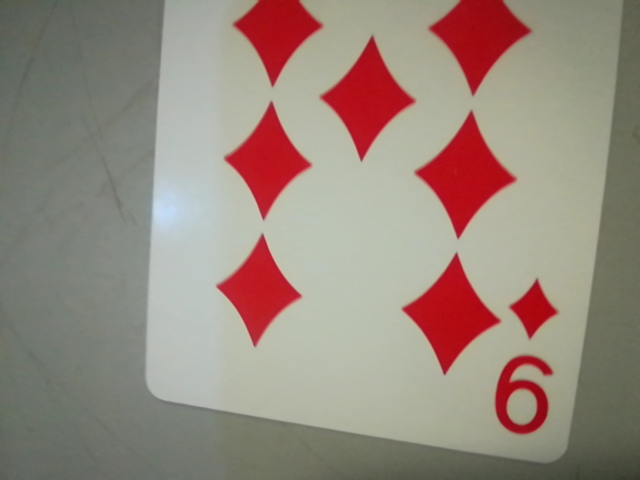fk 9: (489, 264, 571, 448)
